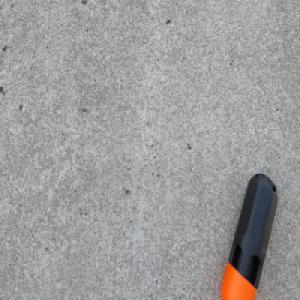PlasticPart: (220, 171, 278, 300)
